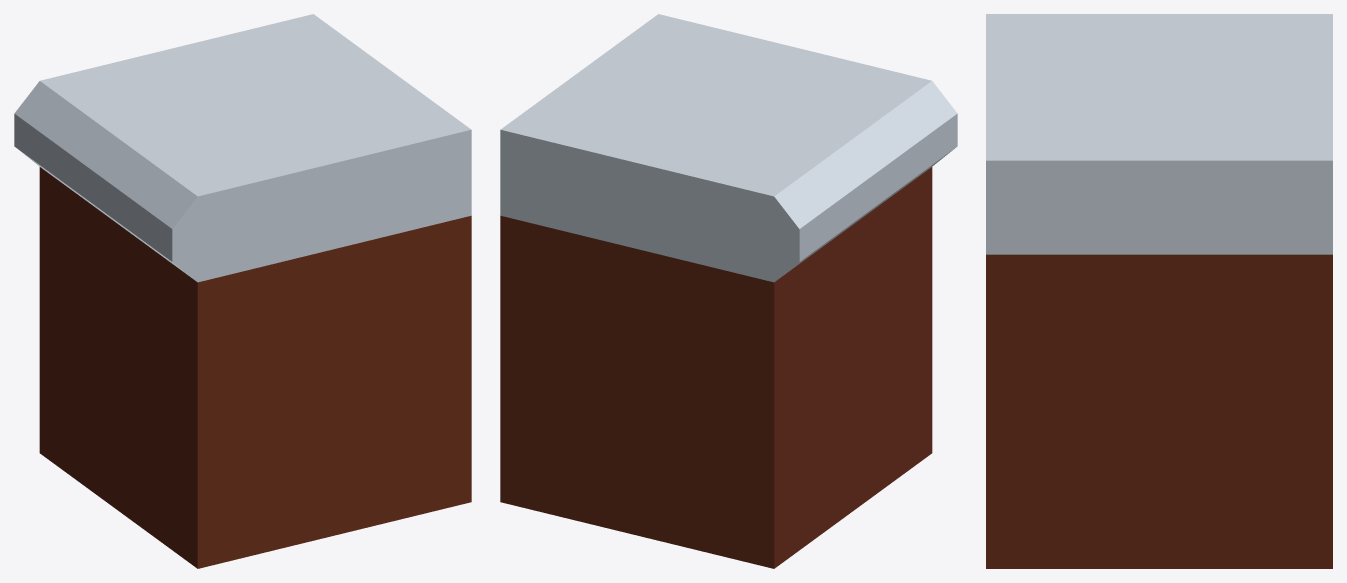
The model's file is SnowEdge.fbx.
3 renders of one model, left to right at view 1: azimuth 30°, elevation 25°; view 2: azimuth 150°, elevation 25°; view 3: azimuth 270°, elevation 25°, orthographic. The views are drawn at different scales.
Parts seen in each view (by area): view 1: Edge; view 2: Edge; view 3: Edge.
Part boxes in pixels (bbox=[...]): Edge: bbox=[14, 14, 471, 568]; Edge: bbox=[500, 14, 957, 568]; Edge: bbox=[986, 14, 1332, 568].
Size of the model in its own units: 109 by 130 by 100.
